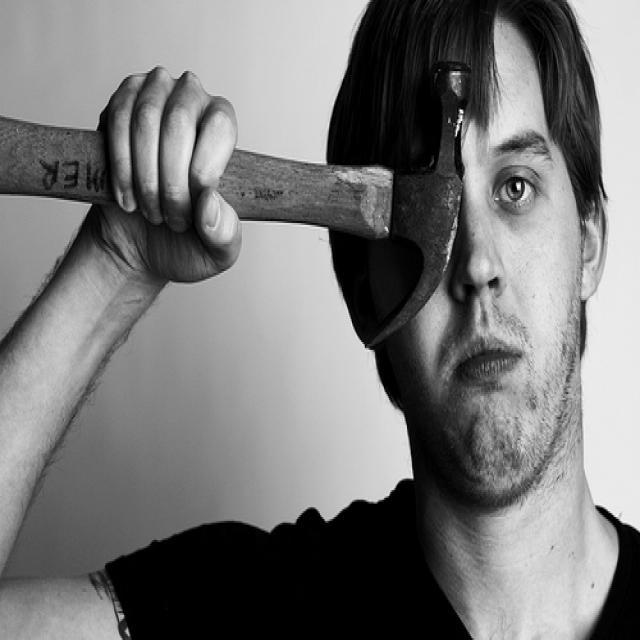hammer: (0, 49, 502, 351)
